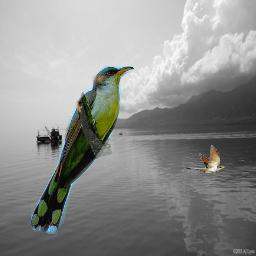Cuckoo: (31, 66, 134, 234), (185, 145, 225, 173)
